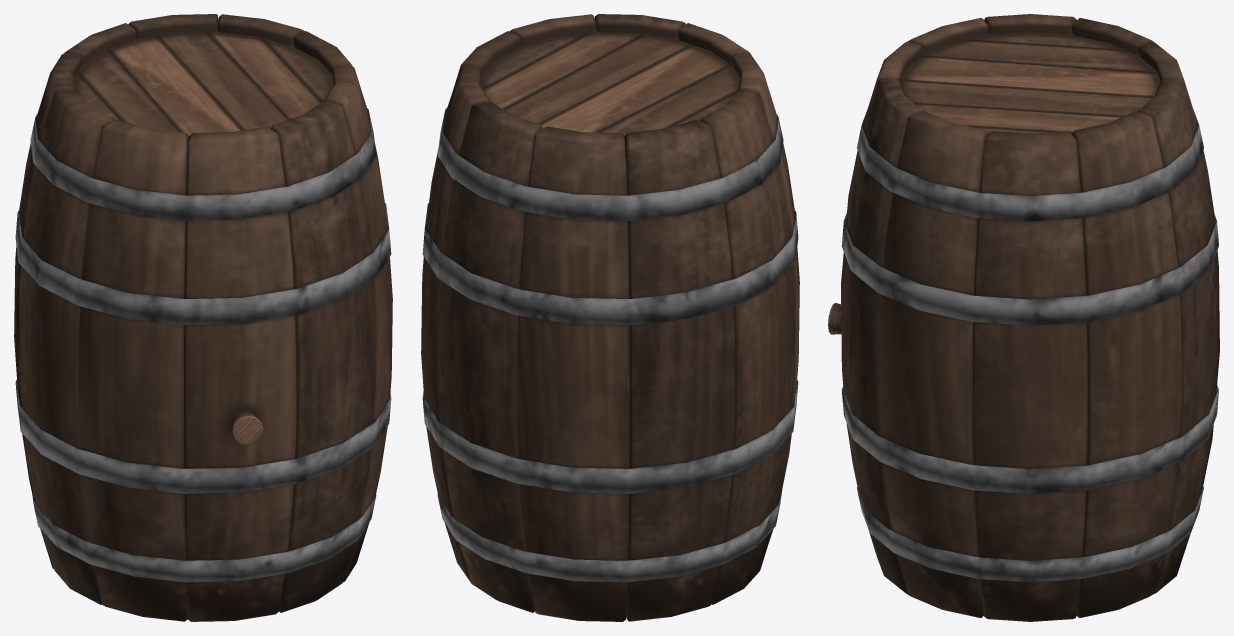
The model's file is market_barrel.glb.
The picture shows the model from 3 angles, left to right: view 1: azimuth 30°, elevation 25°; view 2: azimuth 150°, elevation 25°; view 3: azimuth 270°, elevation 25°; orthographic projection.
Visible parts, largest first — view 1: Barrel1_Wood_Barrel_0; view 2: Barrel1_Wood_Barrel_0; view 3: Barrel1_Wood_Barrel_0.
Part boxes in pixels (left/top/right/bottom): Barrel1_Wood_Barrel_0: left=14, top=14, right=392, bottom=621; Barrel1_Wood_Barrel_0: left=421, top=14, right=799, bottom=621; Barrel1_Wood_Barrel_0: left=828, top=14, right=1219, bottom=621.
Bounding box in the file's own units: 1.63 × 2.28 × 1.68.
Materials: 4 (4 with a texture image).
